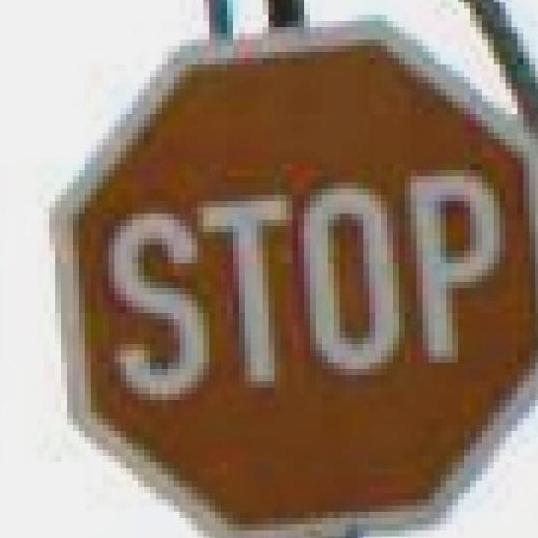stop_sign: (43, 21, 538, 538)
